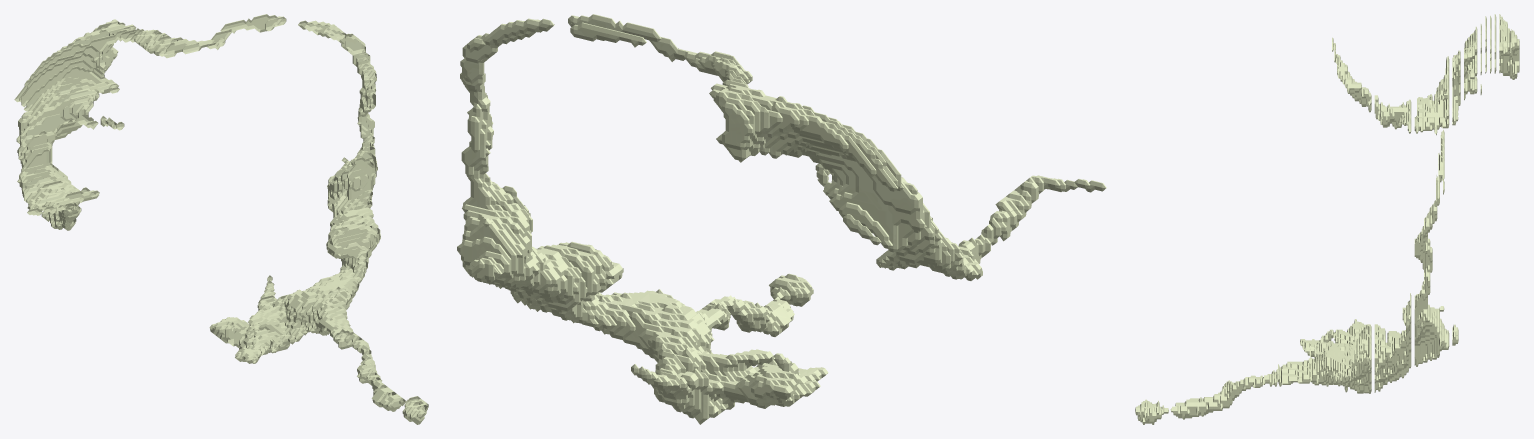
Rendered from SVV_RMDVL.gltf.
3 views of the same model, side by side, from view 1: azimuth 30°, elevation 25°; view 2: azimuth 150°, elevation 25°; view 3: azimuth 270°, elevation 25° (orthographic). The views are drawn at different scales.
Visible parts, largest first — view 1: RMDVL; view 2: RMDVL; view 3: RMDVL.
Boxes of the visible parts, x1,y1,x2,y2 form: RMDVL: (14,14,428,424); RMDVL: (457,14,1106,424); RMDVL: (1135,14,1519,424).
Size of the model in its own units: 77863 by 57893 by 62762.
